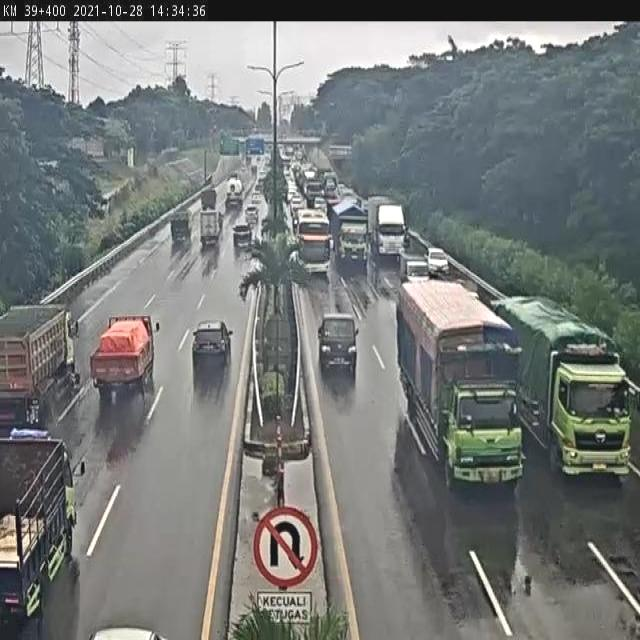Car: (191, 314, 238, 378), (320, 305, 354, 366), (400, 252, 428, 284), (428, 250, 448, 277), (232, 222, 252, 246), (244, 203, 259, 225)
Truck: (390, 276, 529, 498), (498, 293, 634, 479), (0, 432, 76, 636), (1, 304, 77, 437), (91, 314, 156, 402), (328, 194, 368, 268), (367, 199, 406, 268), (294, 208, 331, 274), (200, 208, 223, 248), (170, 210, 191, 245), (226, 177, 243, 209)
